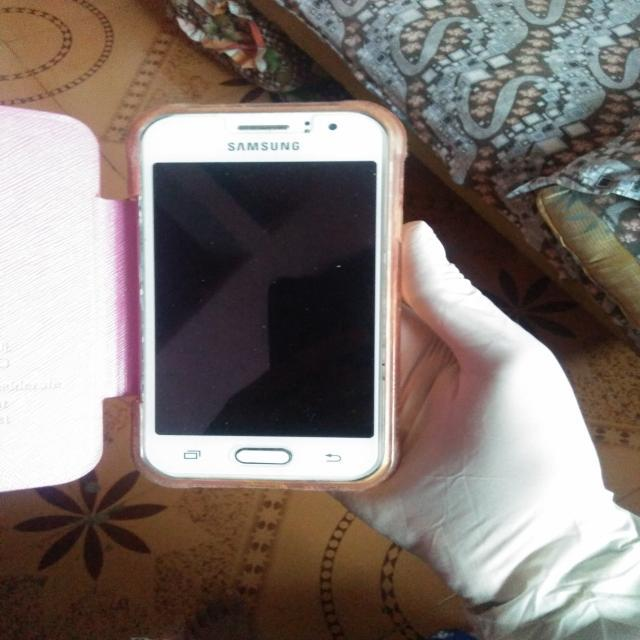glove_hand: (320, 210, 638, 639)
